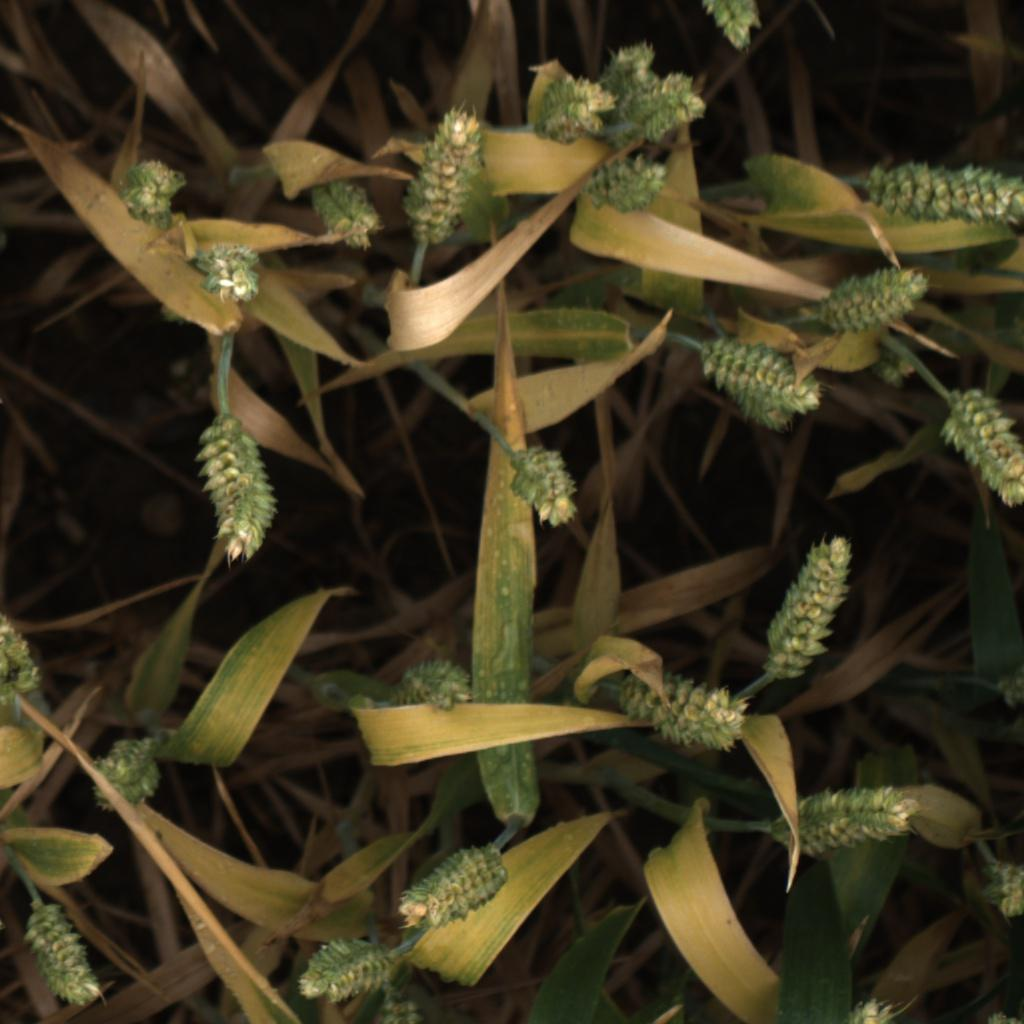0-0: (188, 410, 285, 567), (758, 534, 857, 680), (392, 105, 490, 242), (853, 156, 1024, 230), (769, 781, 922, 861), (606, 670, 755, 751), (392, 841, 516, 934), (937, 384, 1024, 507), (695, 338, 825, 418), (585, 34, 669, 142), (819, 261, 933, 338), (25, 902, 105, 1007), (528, 72, 623, 149), (294, 934, 397, 1003), (618, 68, 708, 145), (507, 447, 584, 531), (582, 147, 669, 221), (114, 155, 191, 232), (305, 182, 385, 255), (86, 735, 158, 815), (191, 242, 275, 308), (688, 0, 775, 55), (395, 655, 476, 714), (0, 607, 42, 702), (728, 382, 801, 433), (979, 855, 1024, 919), (865, 349, 920, 390), (378, 992, 438, 1024), (836, 995, 898, 1024), (992, 654, 1024, 709)
